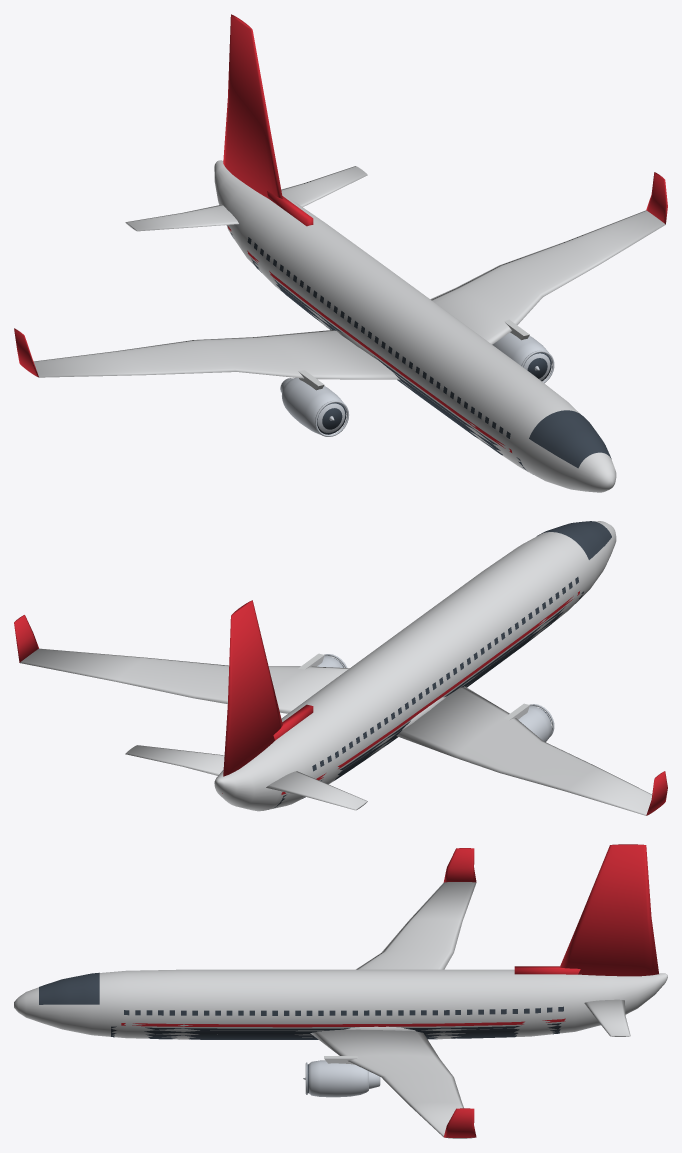
3 renders of one model, top to bottom at view 1: azimuth 30°, elevation 25°; view 2: azimuth 150°, elevation 25°; view 3: azimuth 270°, elevation 25°, orthographic. The views are drawn at different scales.
Visible parts, largest first — view 1: plane_body, plane_accent, plane_dark, plane_metal; view 2: plane_body, plane_accent, plane_dark, plane_metal; view 3: plane_body, plane_accent, plane_dark, plane_metal.
Part boxes in pixels (box(x1,y1,x2,y2)): plane_body: box(33, 160, 665, 492); plane_accent: box(14, 14, 667, 452); plane_dark: box(231, 233, 611, 471); plane_metal: box(280, 332, 554, 436); plane_body: box(20, 521, 651, 815); plane_accent: box(14, 591, 667, 815); plane_dark: box(273, 521, 611, 808); plane_metal: box(317, 654, 554, 742); plane_body: box(14, 882, 667, 1138); plane_accent: box(121, 844, 658, 1137); plane_dark: box(39, 972, 563, 1093); plane_metal: box(303, 1060, 380, 1097).
Size of the model in its own units: 35.66 by 13.3 by 37.75.
